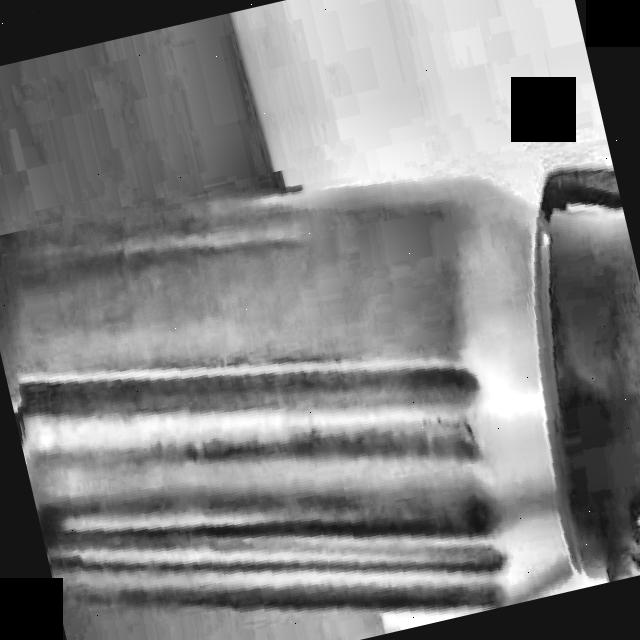bottle: (0, 166, 640, 621)
